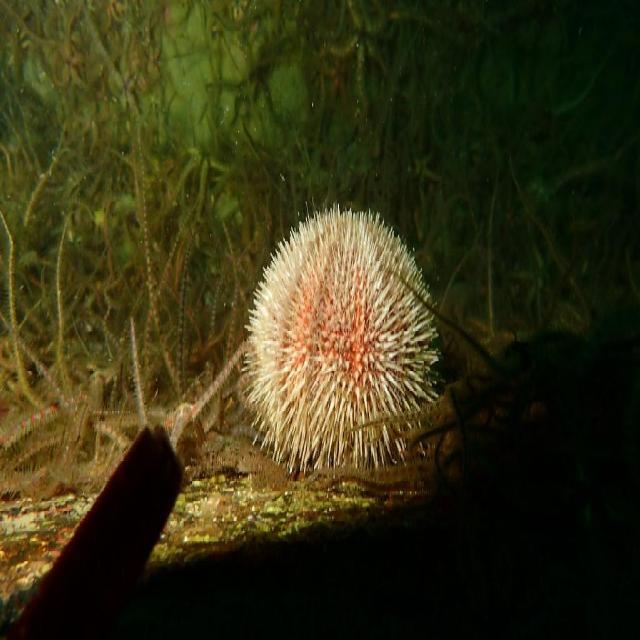Deniz Kestanesi: (241, 199, 442, 474)
